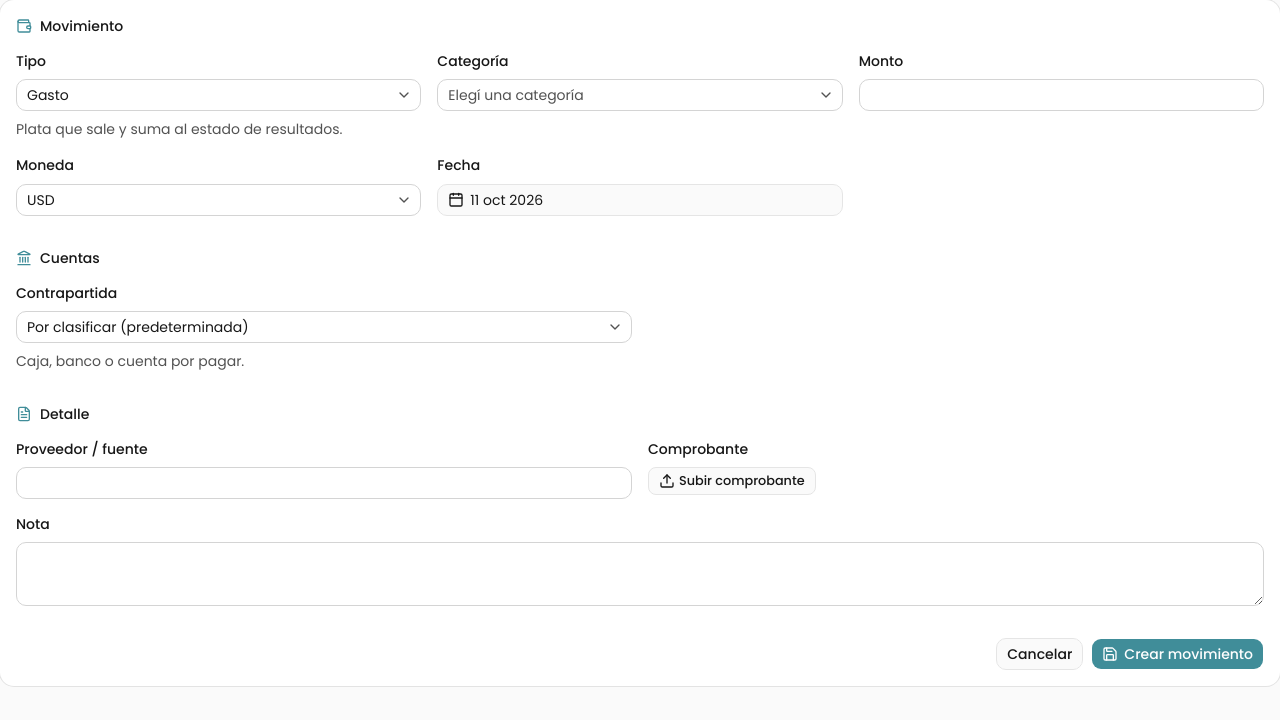
Test case: FinanceEntryForm — las cuentas se filtran por moneda › limpia la cuenta elegida si la moneda deja de servirle
Click the dropdown named "Moneda" at (41, 200), box [16,184,421,216]
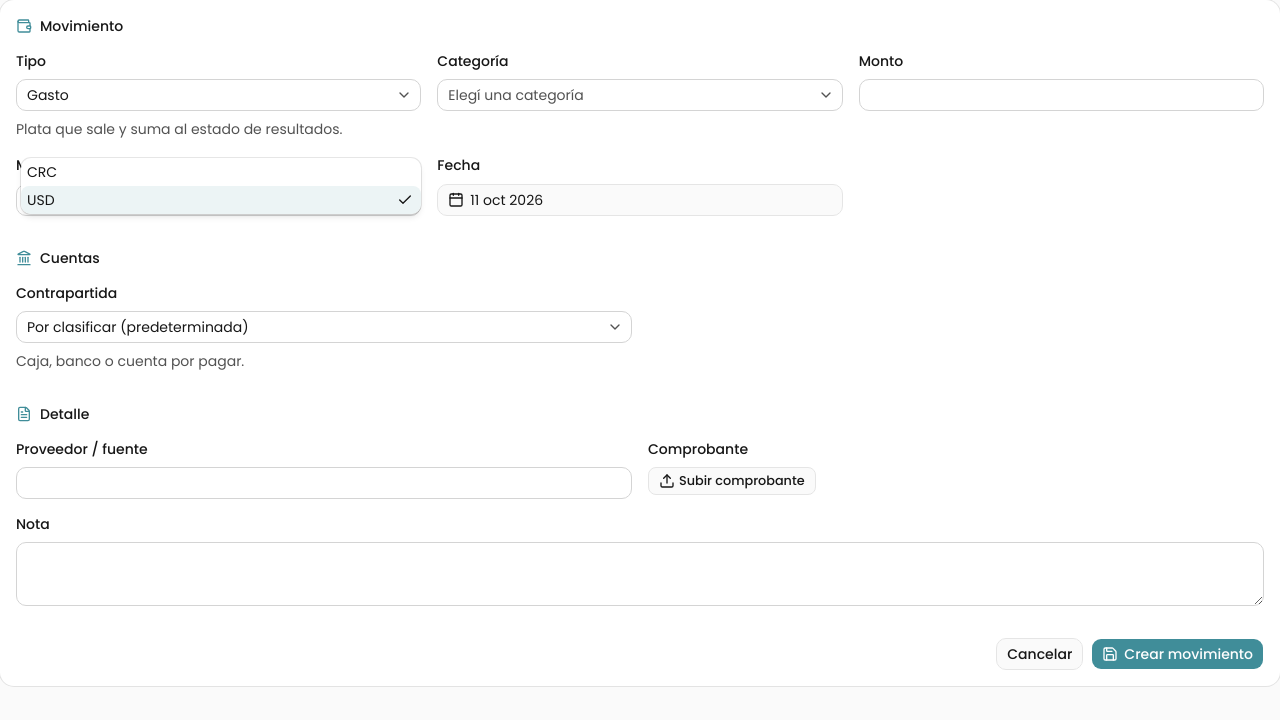
Click the option "CRC" at (42, 172), box [27,162,57,182]
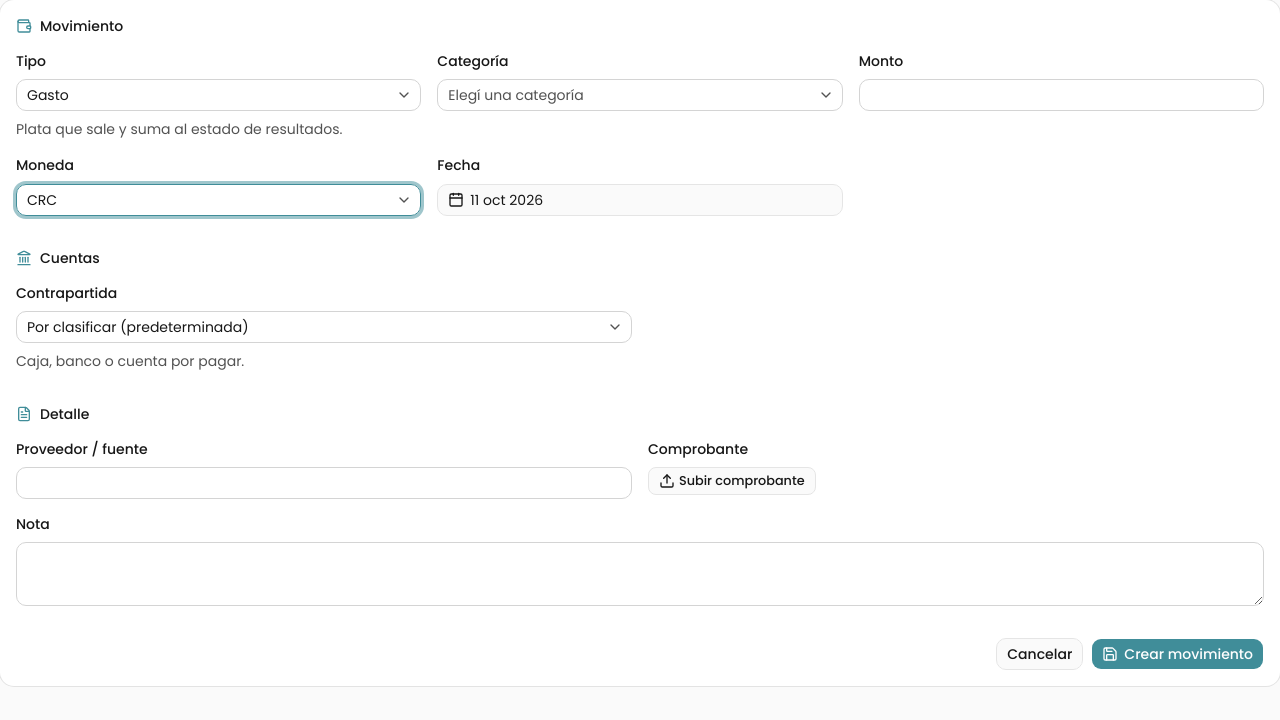
Click the dropdown named "Contrapartida" at (138, 327), box [16,311,632,343]
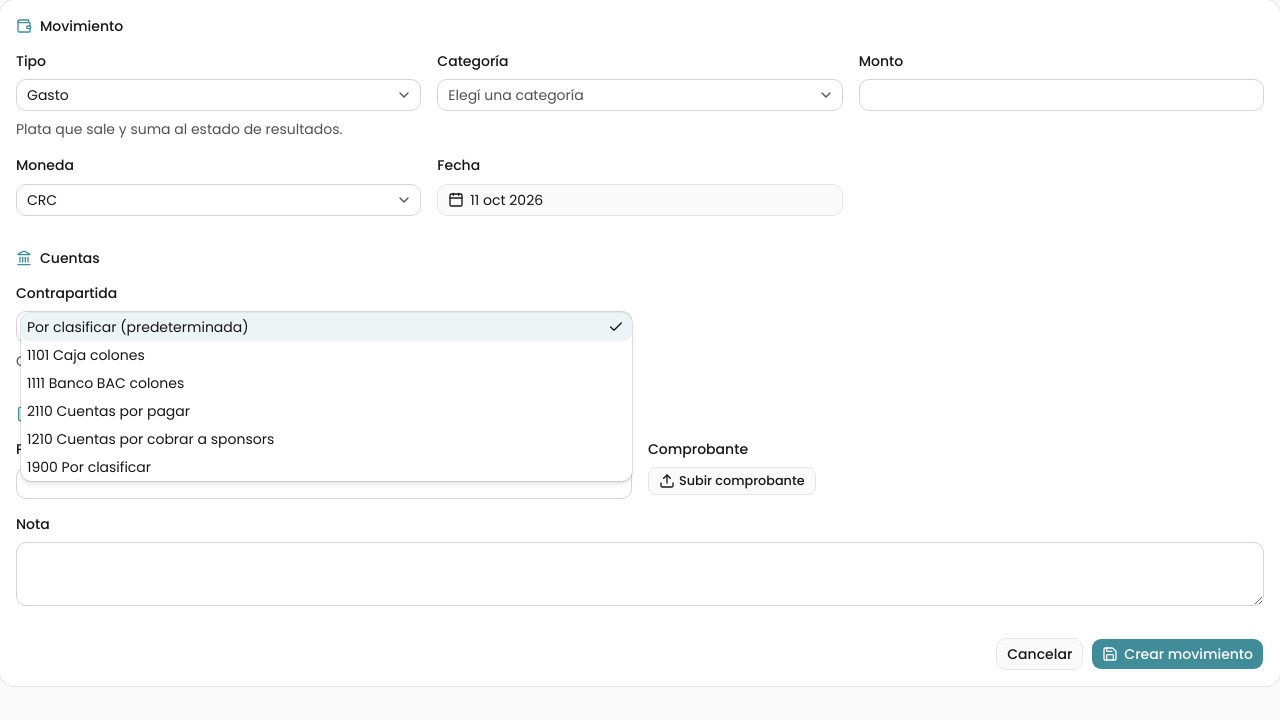
Click the option "1101 Caja colones" at (86, 355), box [27,345,145,365]
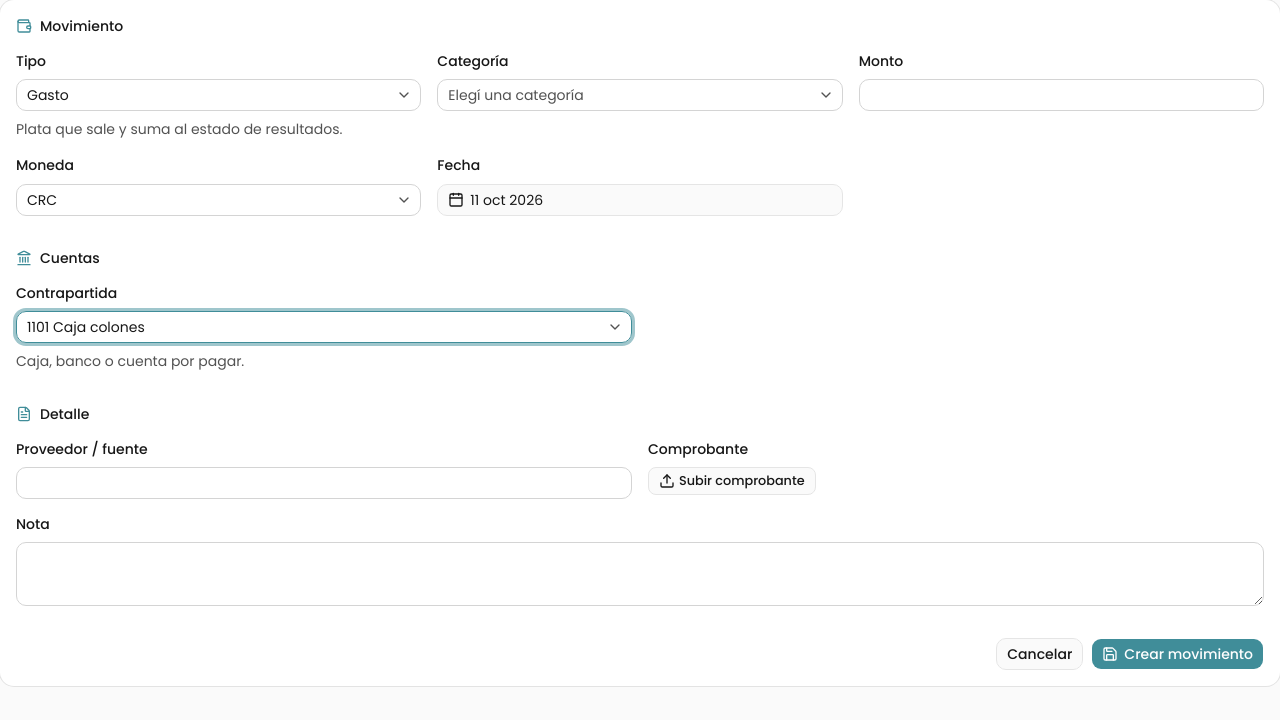
Result: the dropdown named "Contrapartida" shows "Caja colones" at [16,311,632,343]
Click the dropdown named "Moneda" at (42, 200), box [16,184,421,216]
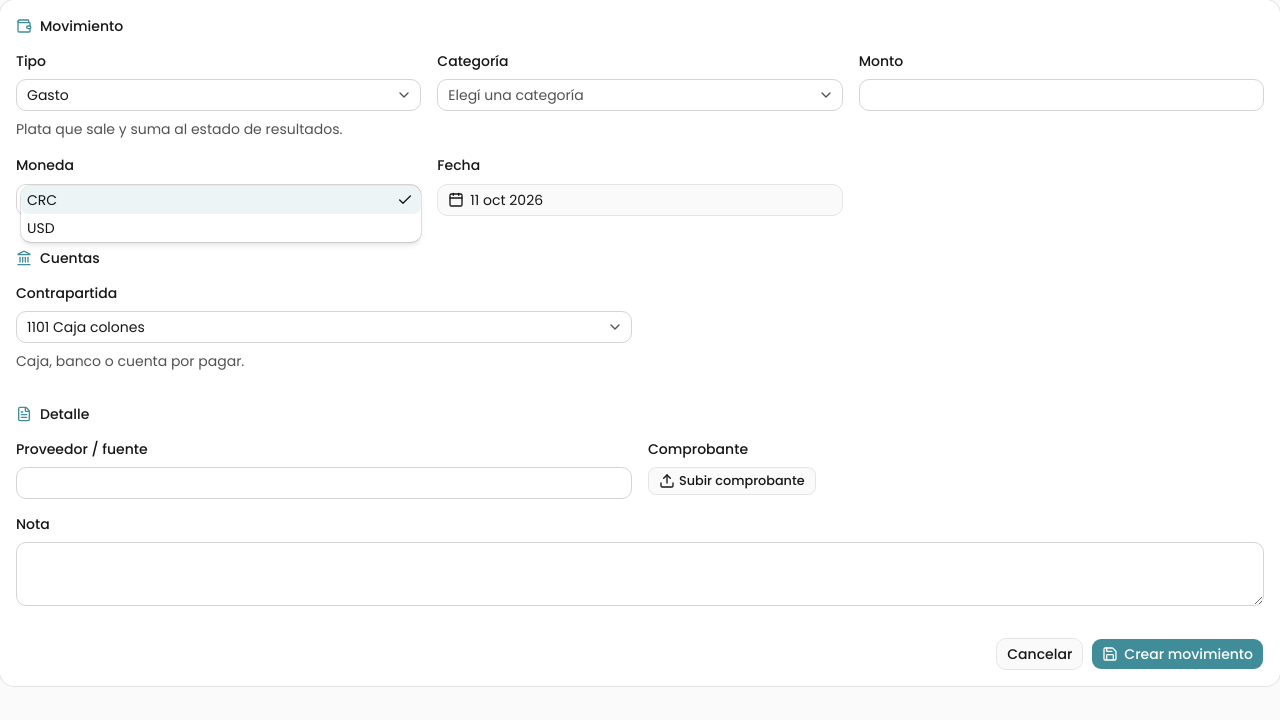
Click the option "USD" at (41, 228), box [27,218,55,238]
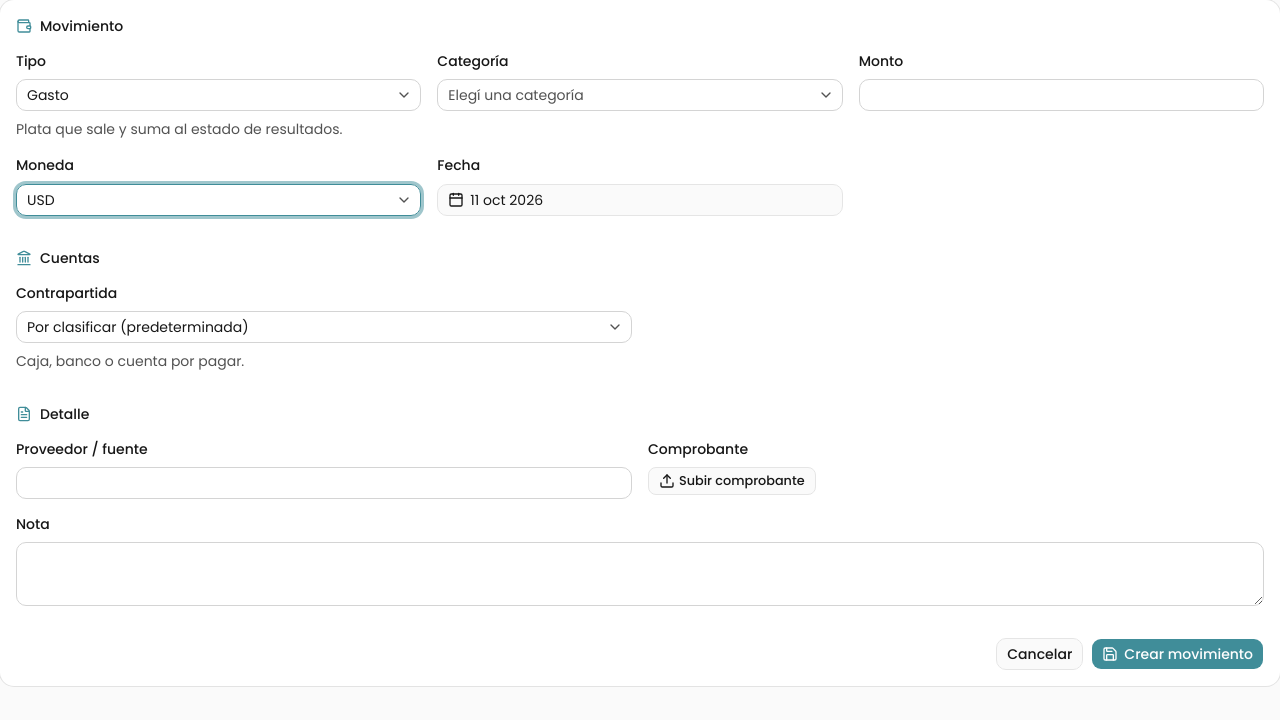
Result: the dropdown named "Contrapartida" no longer shows "Caja colones" at [16,311,632,343]
